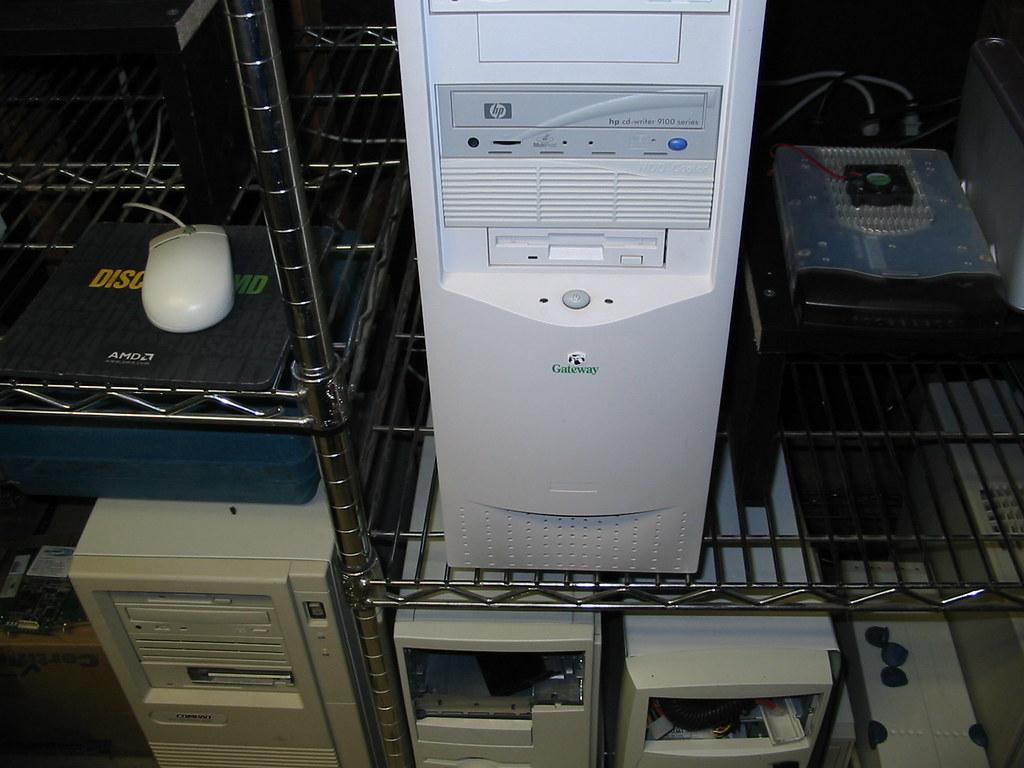computer: (393, 1, 768, 575), (68, 483, 383, 768), (613, 613, 852, 768), (393, 607, 603, 768)
